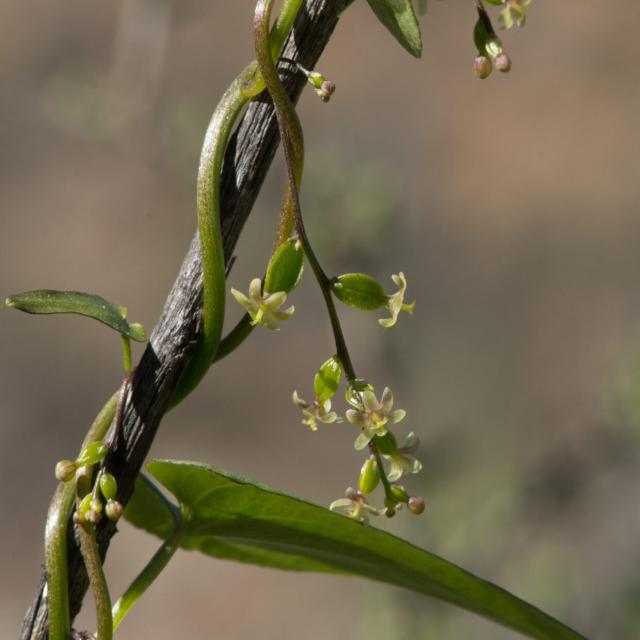Yam: (182, 86, 422, 487), (26, 377, 158, 583), (387, 0, 547, 148)
